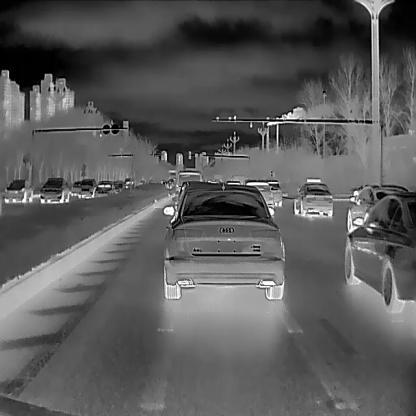car: (162, 182, 284, 299), (344, 193, 415, 312), (346, 181, 408, 243), (294, 176, 333, 217), (243, 180, 274, 218), (175, 168, 204, 204), (38, 176, 69, 205), (3, 179, 33, 204), (261, 178, 284, 206), (96, 181, 115, 198), (78, 178, 94, 197)
